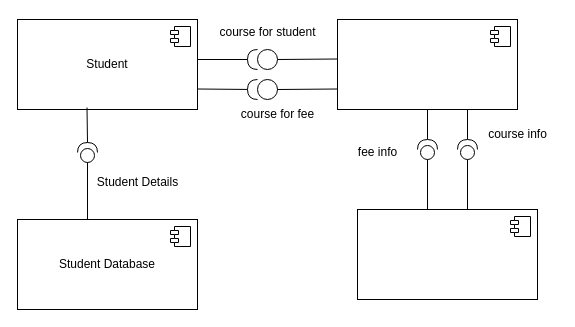
The diagram is 575 pixels wide and 327 high, and some of its shapes have lost their labels. Here are the shapes that lost their labels. From the top down, the box of each, then its label:
(336, 18, 518, 110): course
(356, 208, 538, 300): course database
